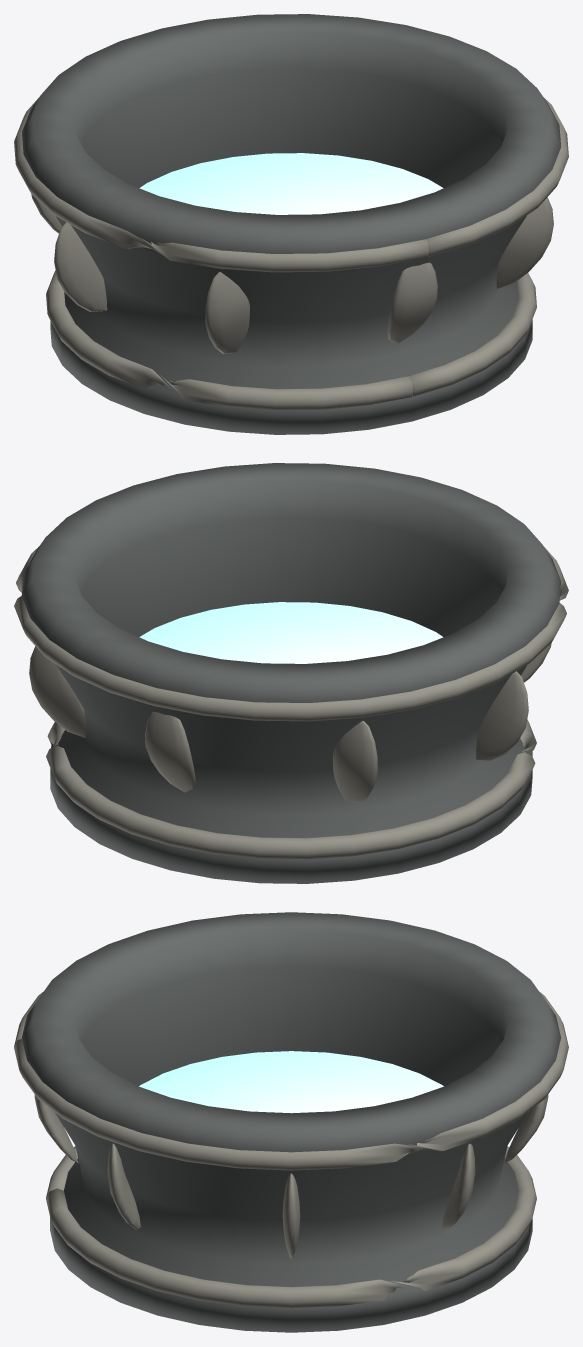
File: pilgrim_well.glb
3 renders of one model, top to bottom at view 1: azimuth 30°, elevation 25°; view 2: azimuth 150°, elevation 25°; view 3: azimuth 270°, elevation 25°, orthographic.
Visible parts, largest first — view 1: Body__stone, Body__edge, Body__soul; view 2: Body__stone, Body__edge, Body__soul; view 3: Body__stone, Body__edge, Body__soul.
Part boxes in pixels (x1=…): Body__stone: x1=22, y1=14, x2=560, y2=434; Body__edge: x1=14, y1=97, x2=568, y2=410; Body__soul: x1=139, y1=153, x2=443, y2=214; Body__stone: x1=22, y1=463, x2=560, y2=883; Body__edge: x1=14, y1=546, x2=568, y2=859; Body__soul: x1=139, y1=602, x2=443, y2=663; Body__stone: x1=21, y1=912, x2=560, y2=1332; Body__edge: x1=14, y1=992, x2=568, y2=1308; Body__soul: x1=139, y1=1051, x2=443, y2=1113.
Bounding box in the file's own units: 1.56 × 0.65 × 1.56.
